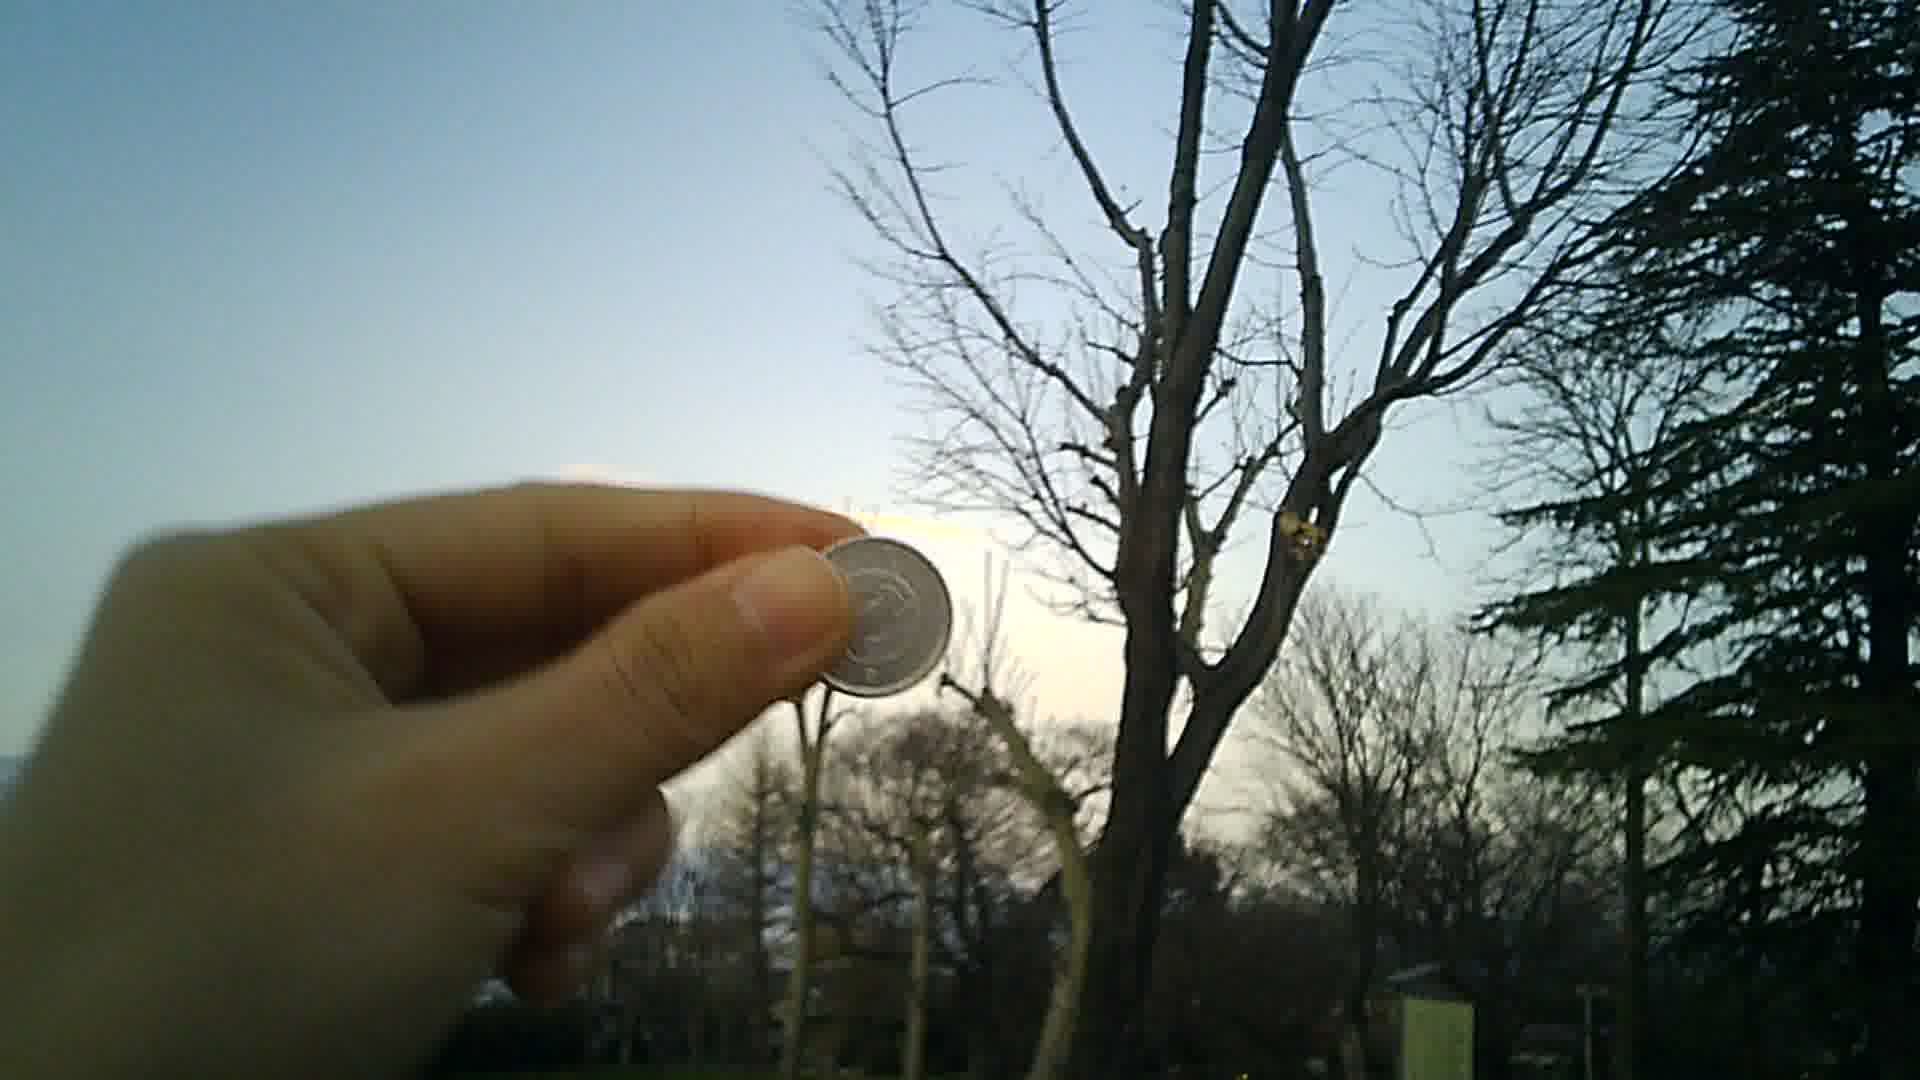1 Yen: (802, 524, 956, 691)
